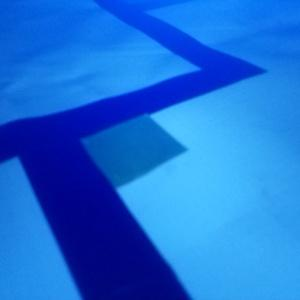bottom_right: (51, 113, 187, 189)
